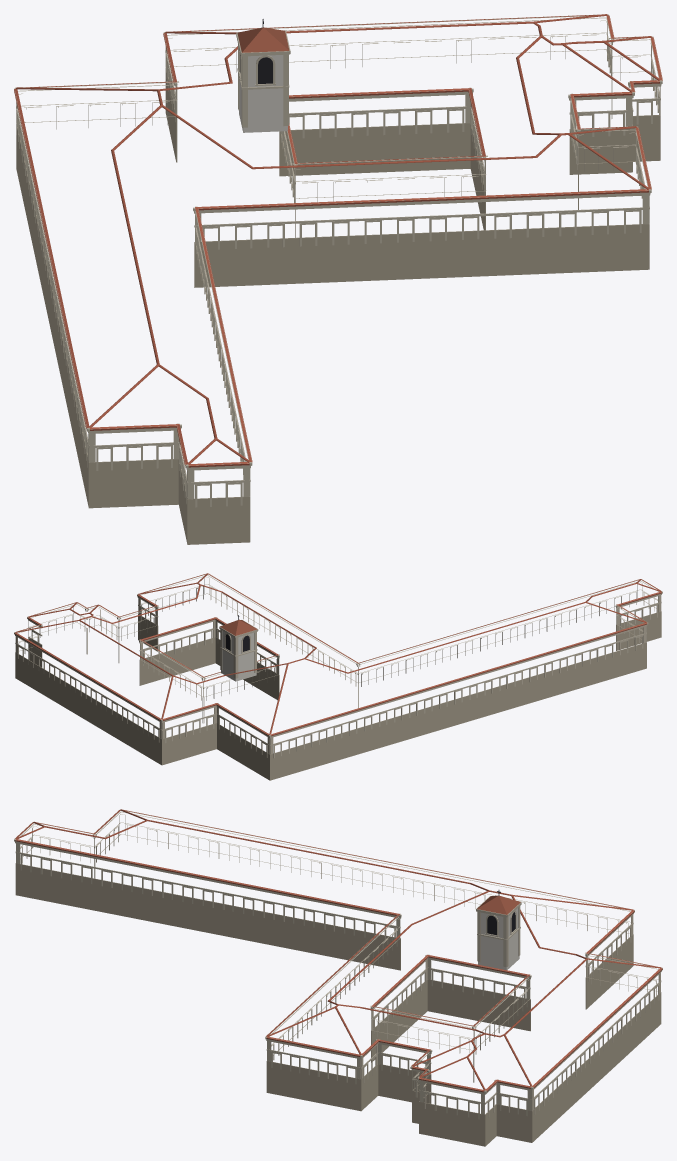
The picture shows the model from 3 angles, top to bottom: view 1: azimuth 30°, elevation 25°; view 2: azimuth 150°, elevation 25°; view 3: azimuth 270°, elevation 25°; orthographic projection. The views are drawn at different scales.
Visible parts, largest first — view 1: detail; view 2: detail; view 3: detail.
Part boxes in pixels (<box>): detail: <box>14,14,662,544</box>; detail: <box>14,573,662,780</box>; detail: <box>14,809,662,1146</box>.
Size of the model in its own units: 93.93 by 19.86 by 91.29.
